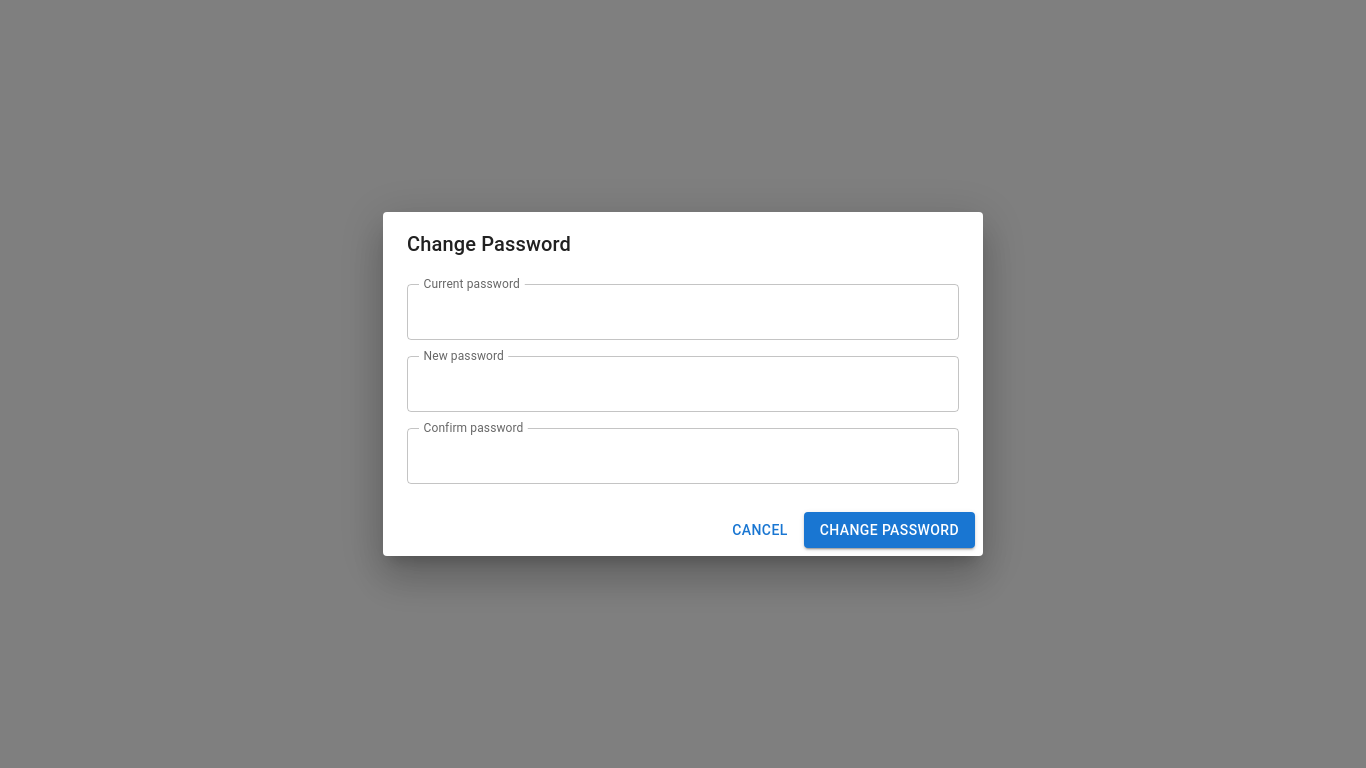
Test case: ChangePasswordDialog › shows error when new password is empty
Type "old123" into the password field labelled "Current password" at (683, 312), box [407, 284, 959, 340]
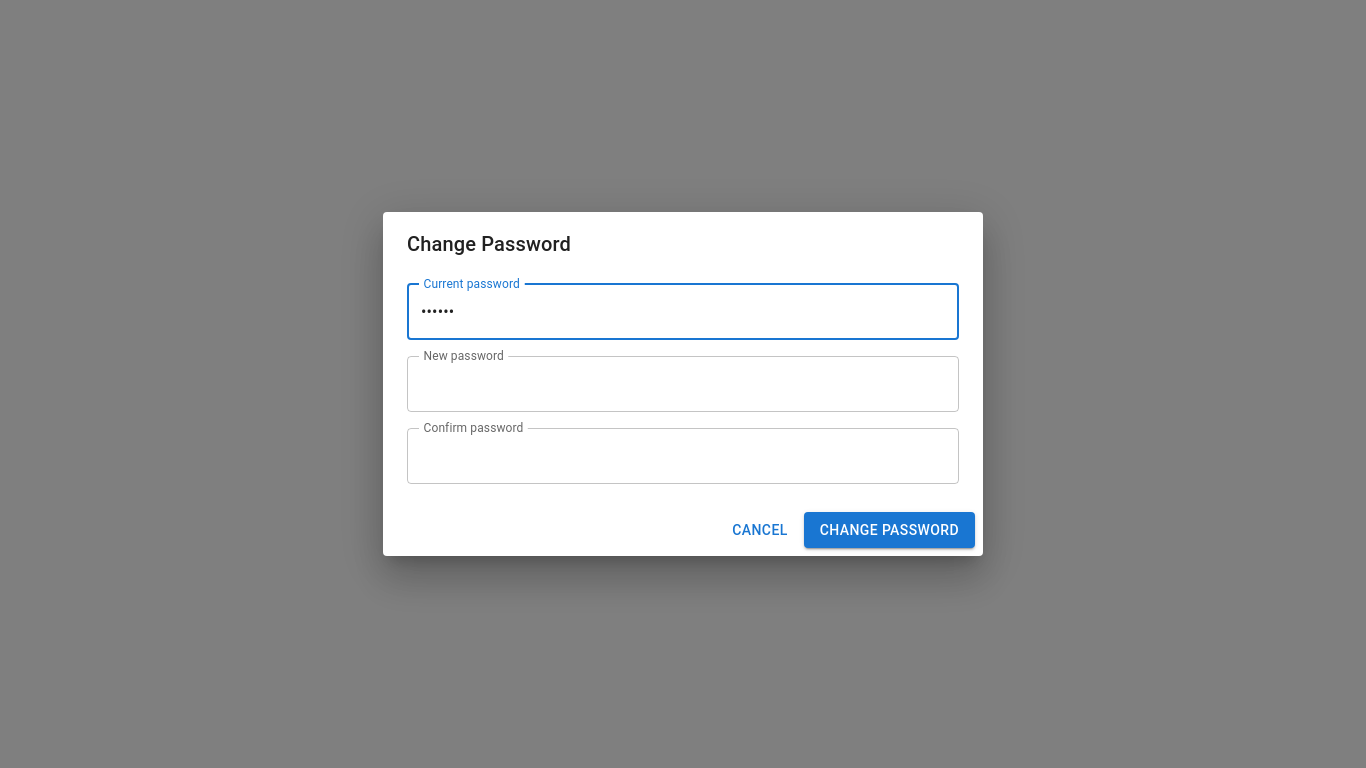
Click the button "Change Password" at (889, 530), box [804, 512, 975, 548]
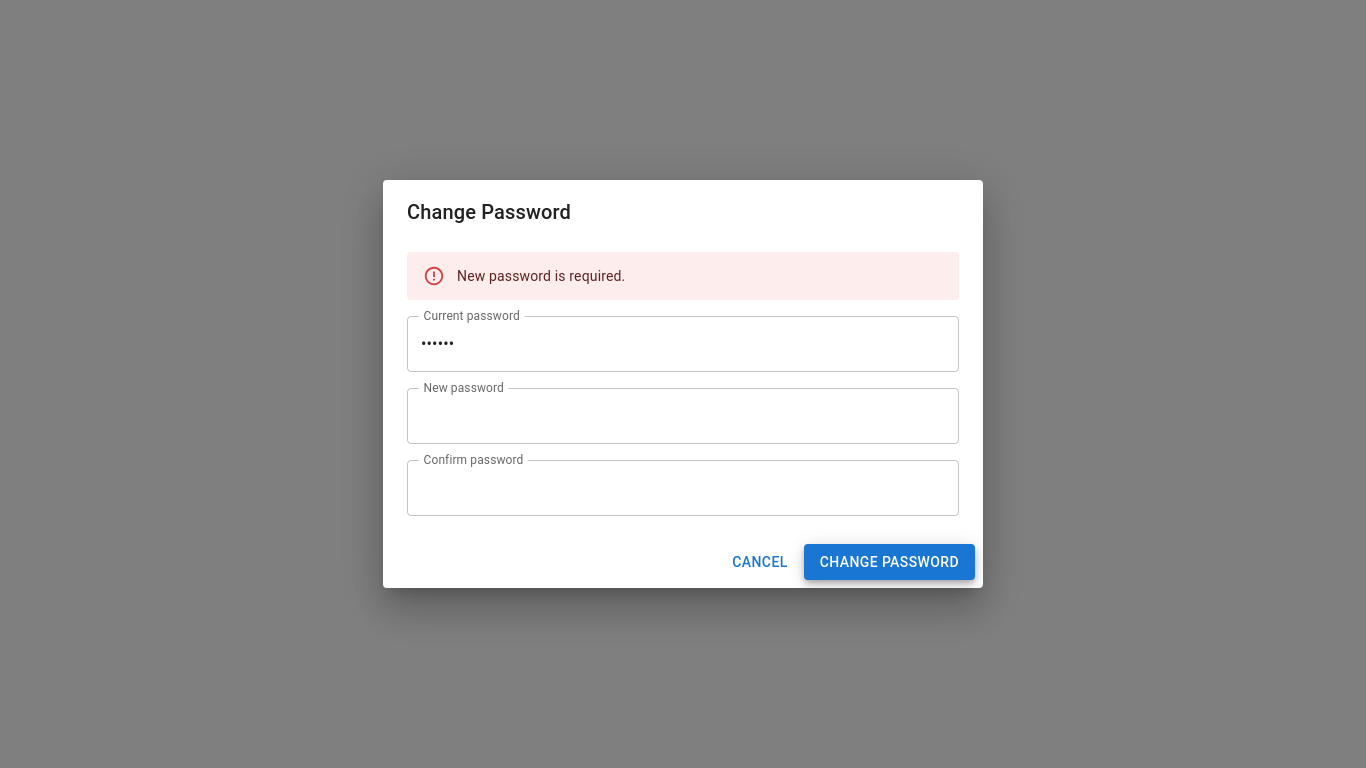
Now the message shows "New password is required", box [457, 268, 625, 284]
